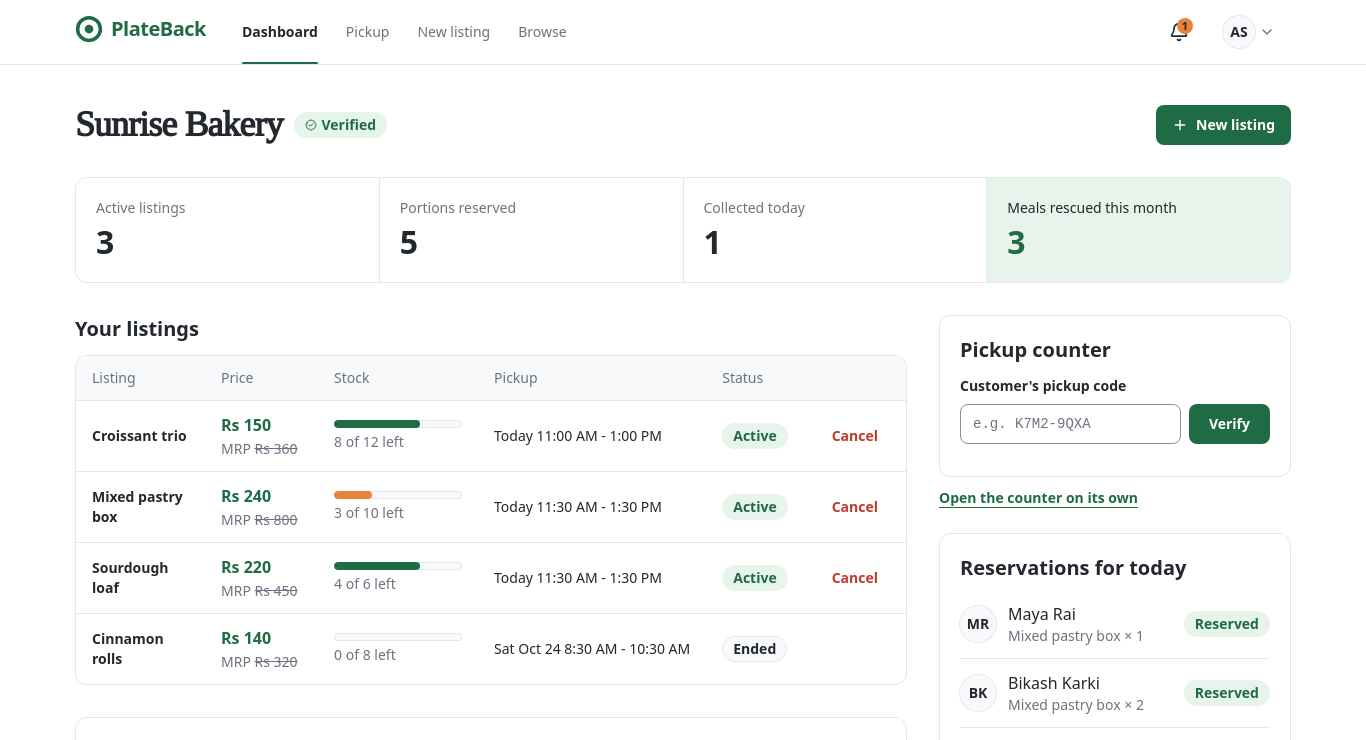
OrgDashboardPage › verifies a pickup code at the counter (US4)
Expected: the heading "Sunrise Bakery" is shown, [75,105,282,145]
Type "k7m29qxa" into the field labelled "Customer's pickup code" at (1070, 424), box [960,404,1181,444]
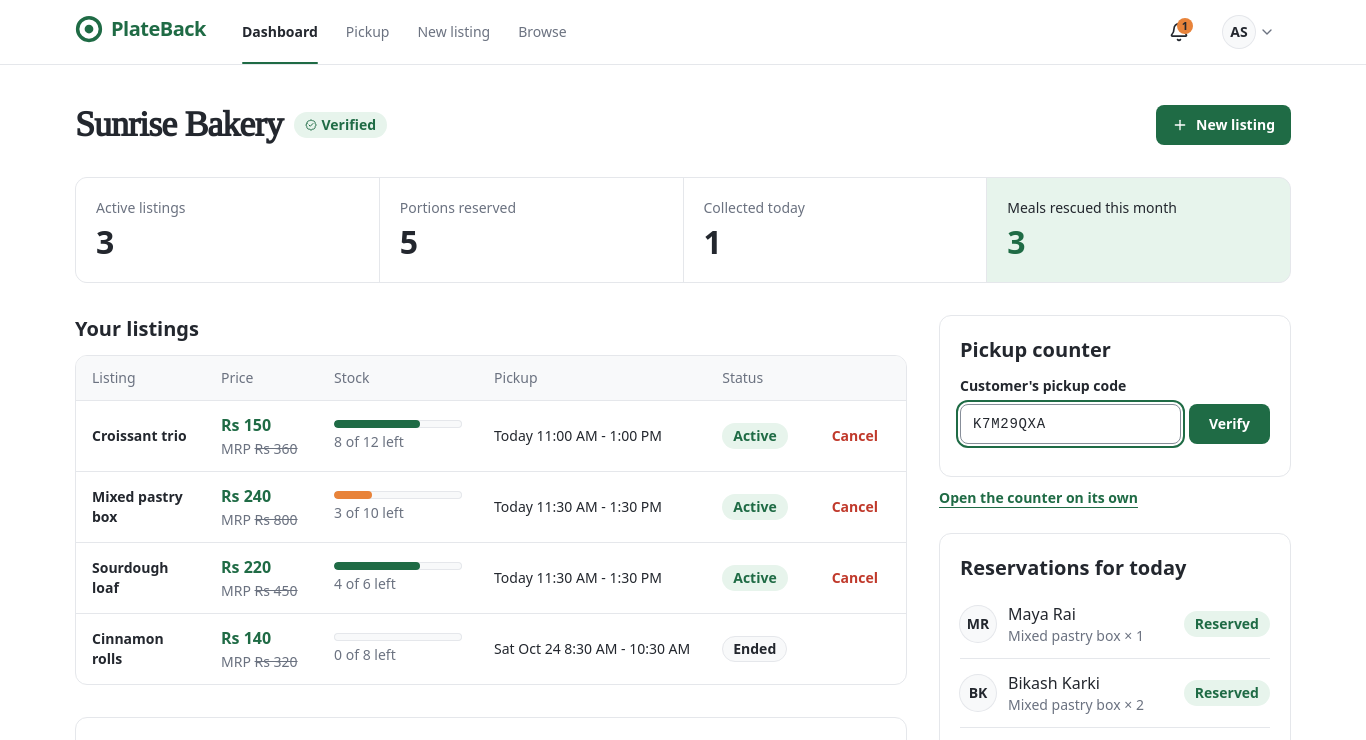
Click the button "Verify" at (1229, 424), box [1189,404,1270,444]
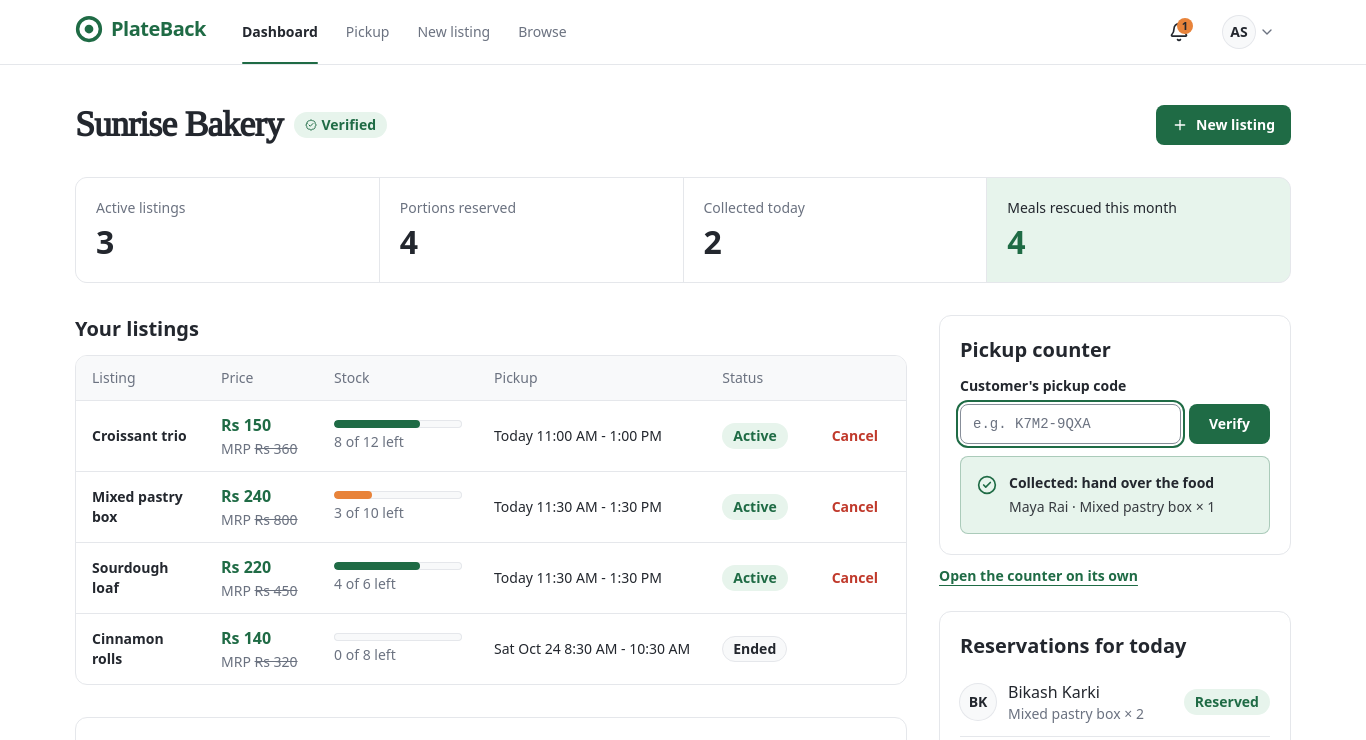
Expected: the message shows "Collected: hand over the food", [1009,473,1214,492]
Expected: the message shows "Maya Rai · Mixed pastry box × 1", [960,456,1270,534]
Expected: the field labelled "Customer's pickup code" is empty, [960,404,1181,444]
